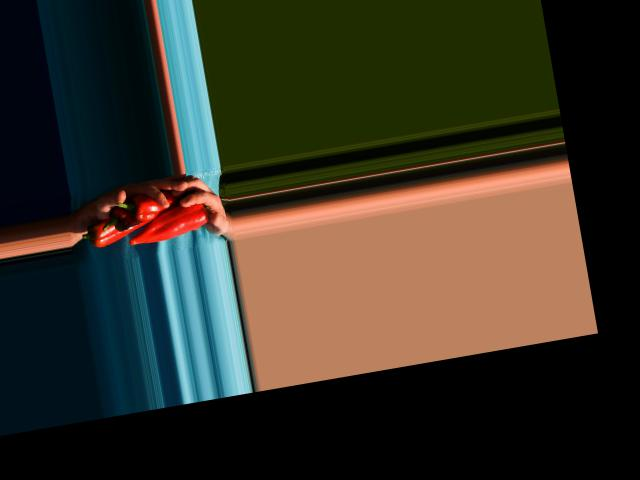bell_pepper: (79, 212, 136, 249)
